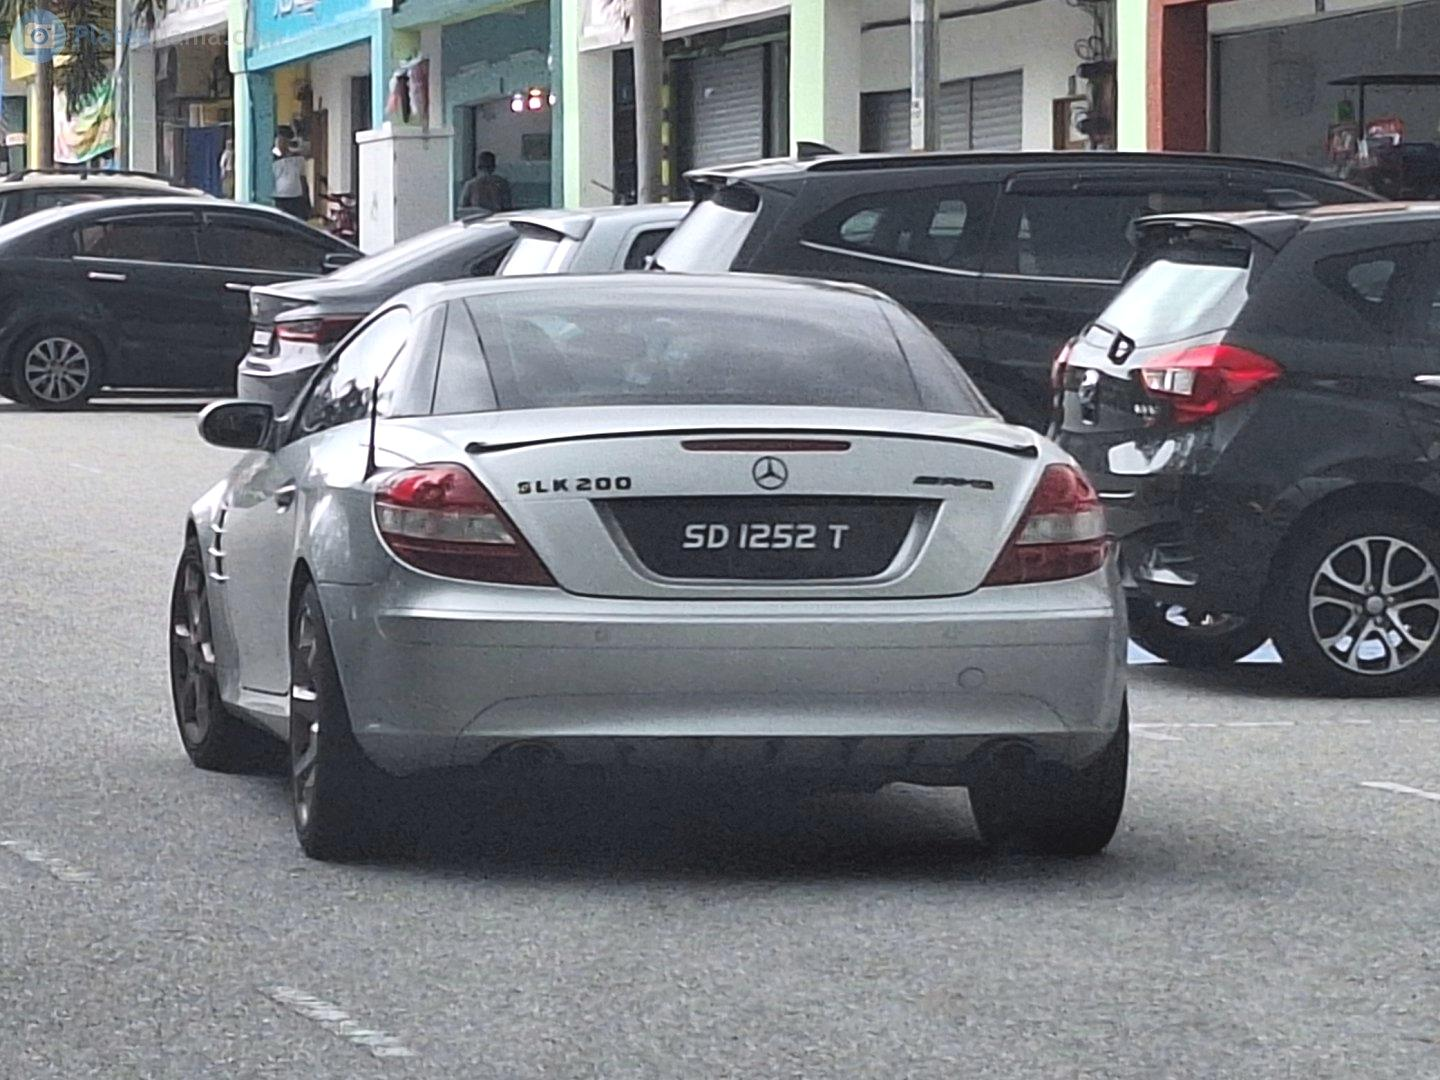License Plate: (670, 499, 886, 575)
